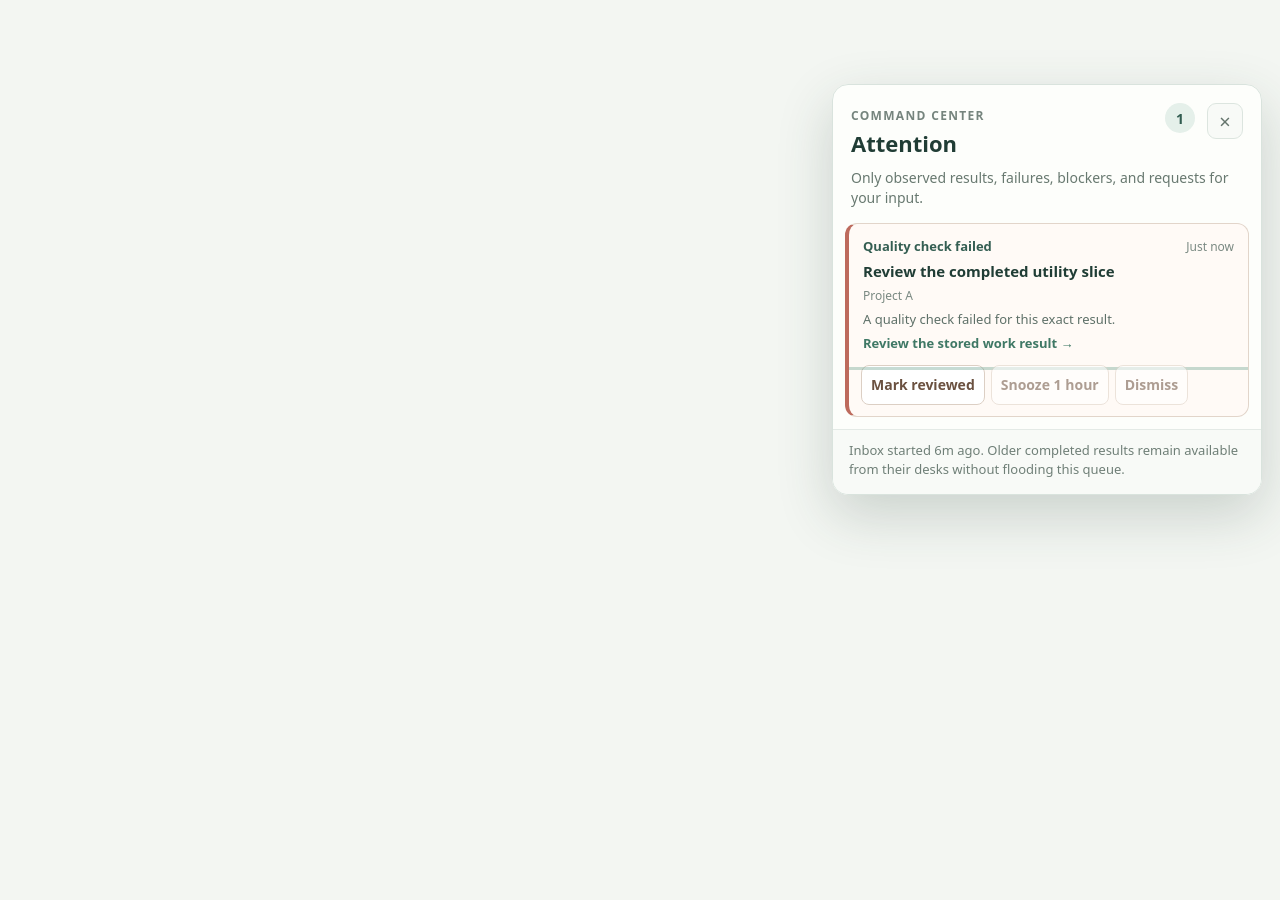
Scenario: Review & Act dialog interaction › moves focus to confirmed status when reviewing removes a verification alert
What coordinates should you click on to do the following:
click the button "Mark reviewed"
I would click on:
 (923, 385)
Its box is top-left (861, 365), bottom-right (985, 405).
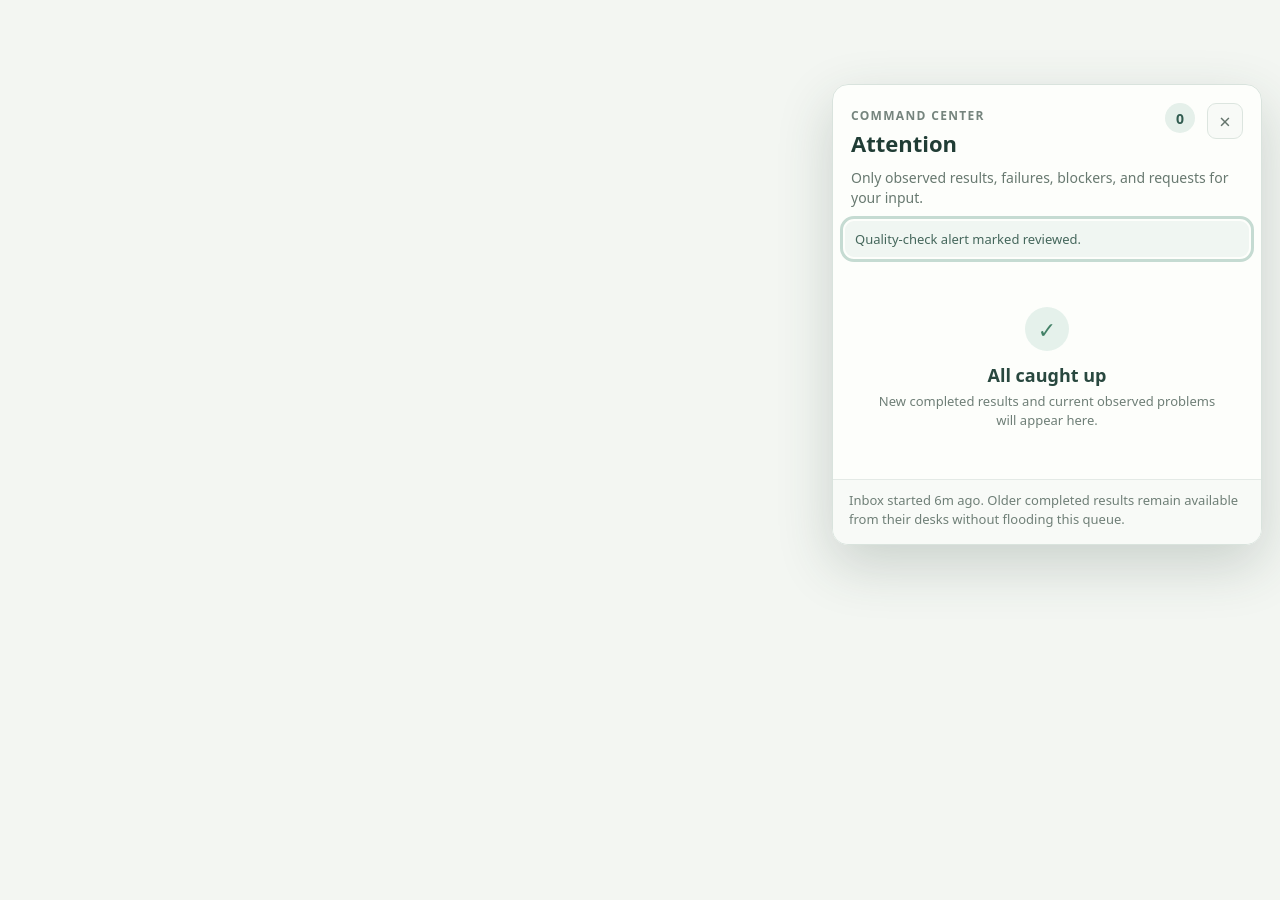
Result: the text "All caught up" is shown at top-left (988, 363), bottom-right (1106, 387)
Result: the message "Quality-check alert marked reviewed." is shown at top-left (845, 221), bottom-right (1249, 257)
